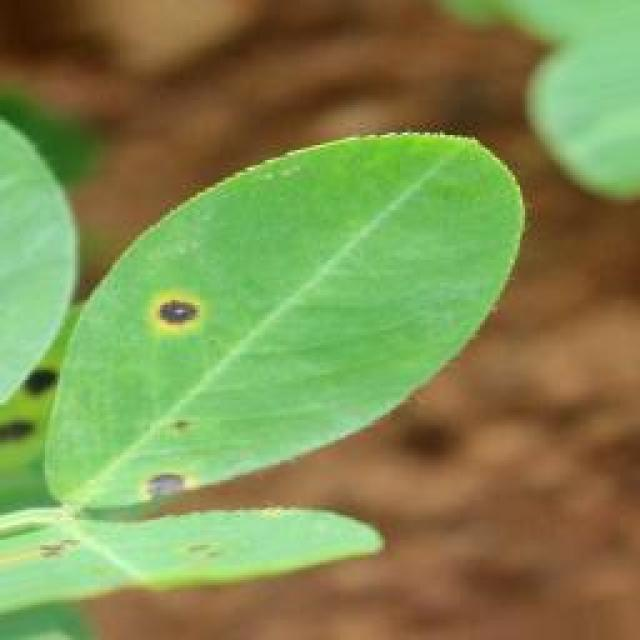Sigatoka: (137, 274, 228, 363), (124, 452, 210, 516), (30, 513, 94, 569), (182, 536, 246, 589), (155, 402, 201, 452)
